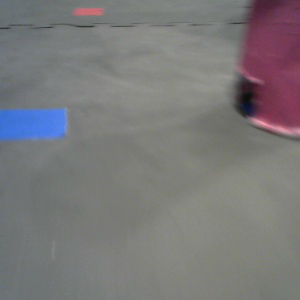Right: (240, 1, 300, 139)
